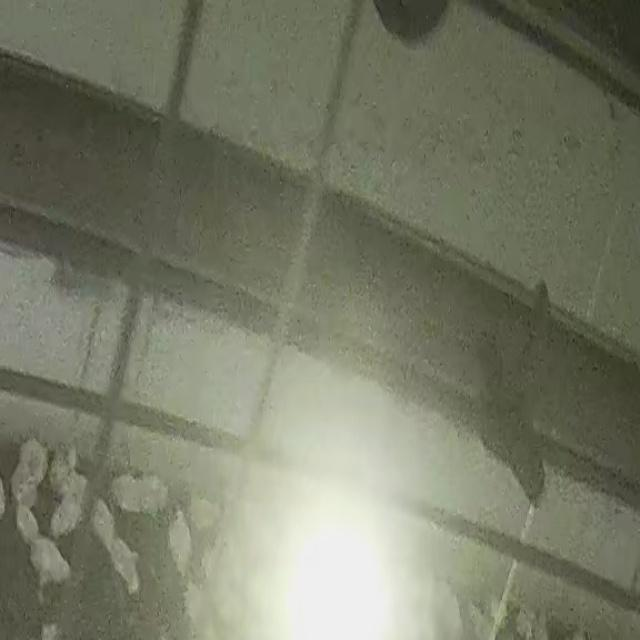chicken: (28, 536, 75, 603), (112, 540, 144, 598), (168, 508, 191, 578), (46, 495, 82, 538), (88, 497, 111, 561), (10, 464, 41, 511), (19, 439, 48, 485), (50, 446, 84, 485), (110, 473, 143, 513), (143, 474, 167, 519), (15, 503, 42, 543)
